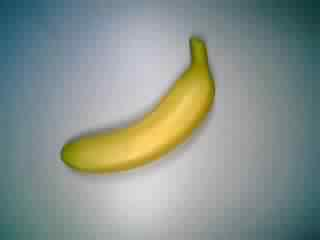banana: (58, 35, 217, 172)
